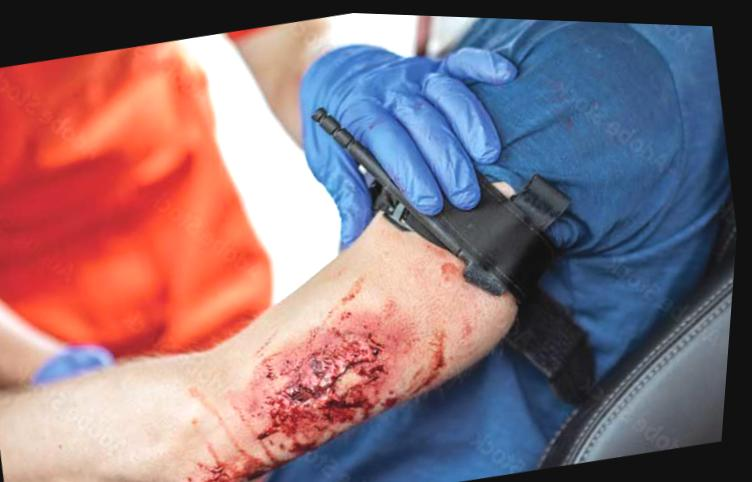Fire: (183, 242, 519, 482)
